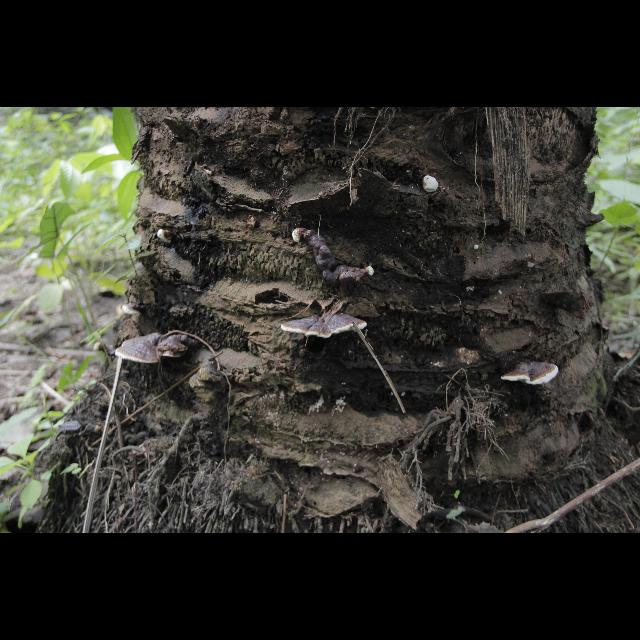ganoderma: (308, 229, 365, 287), (281, 312, 369, 340), (115, 334, 165, 366), (502, 361, 561, 387), (157, 335, 198, 360), (122, 304, 148, 316)
primordium: (424, 176, 441, 194), (294, 228, 309, 244), (158, 230, 175, 244), (95, 343, 108, 354), (367, 267, 376, 278), (475, 245, 480, 251)
